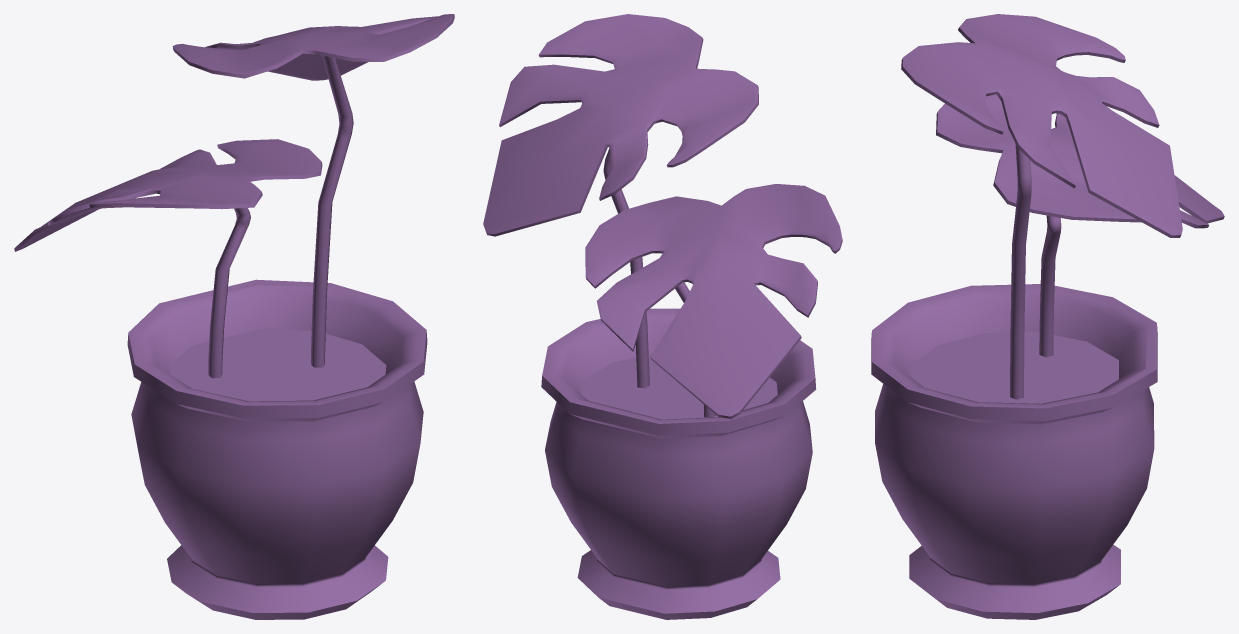
The model's file is plant_low.fbx.
The picture shows the model from 3 angles, left to right: view 1: azimuth 30°, elevation 25°; view 2: azimuth 150°, elevation 25°; view 3: azimuth 270°, elevation 25°; orthographic projection. The views are drawn at different scales.
Visible parts, largest first — view 1: plant_low; view 2: plant_low; view 3: plant_low.
Part boxes in pixels (x1=…): plant_low: x1=14, y1=14, x2=454, y2=619; plant_low: x1=483, y1=14, x2=842, y2=619; plant_low: x1=871, y1=14, x2=1224, y2=619.
Size of the model in its own units: 1.27 by 1.87 by 1.09.
